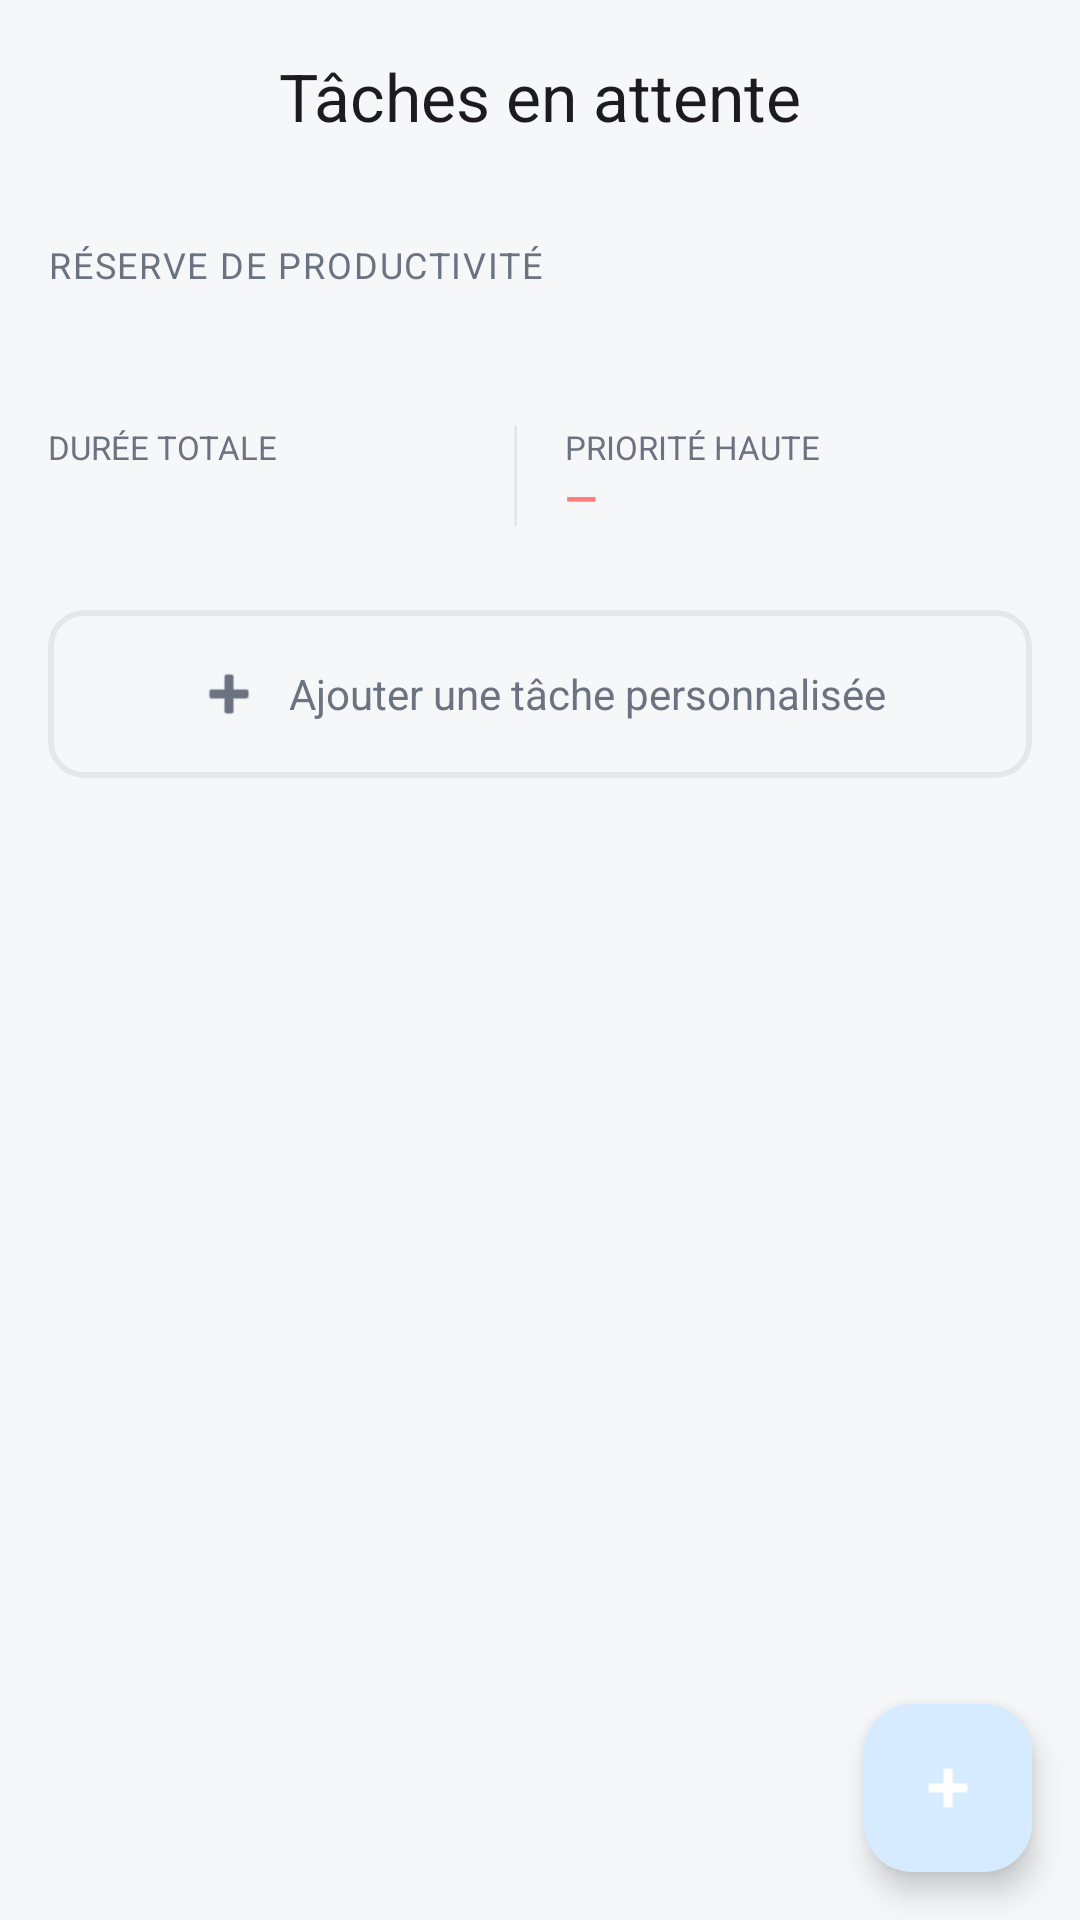

Named icons in this screenshot (1080w x 1920h) and their centers, (x=x, y=y):
add: (x=229, y=694)
Nouvelle tâche: (x=948, y=1788)
